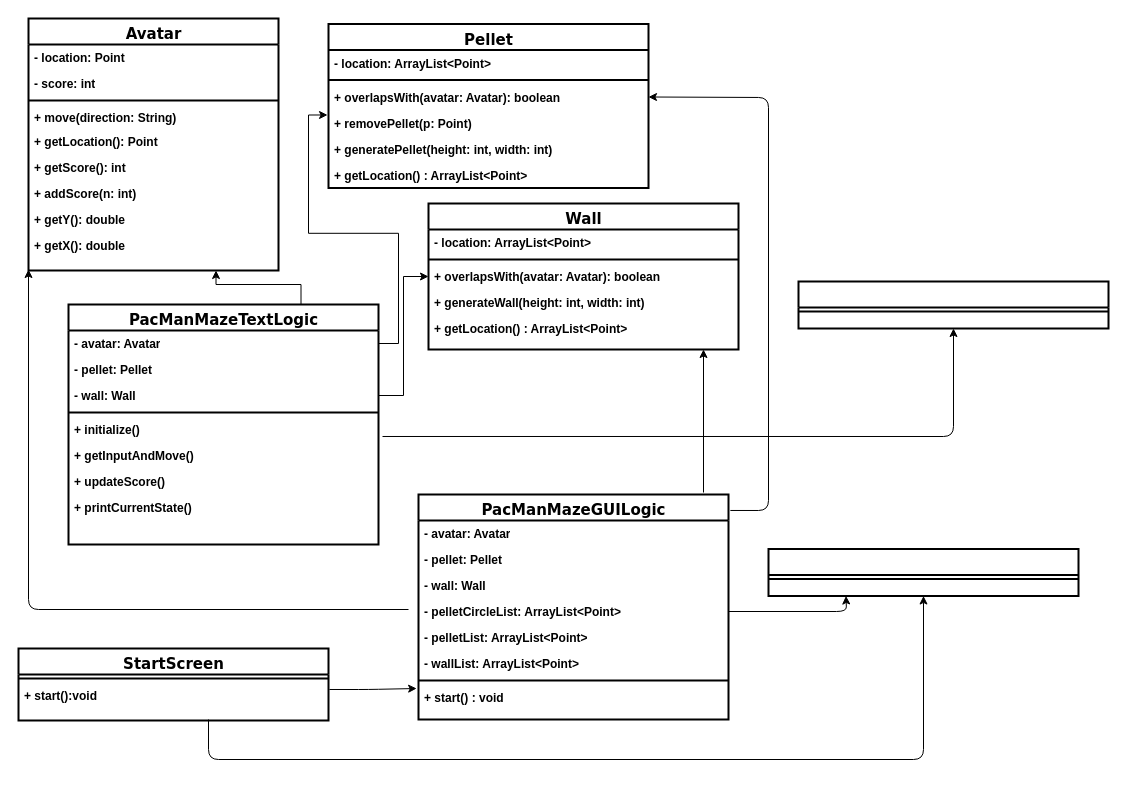
Some shapes in this 1126 by 785 pixel diagram are drawn without their labels. The centre of each missing label's shape, as x and y in pixels:
"javafx.application.Application" goes at point (923, 572).
"PacManMazeTextManager" goes at point (953, 304).
